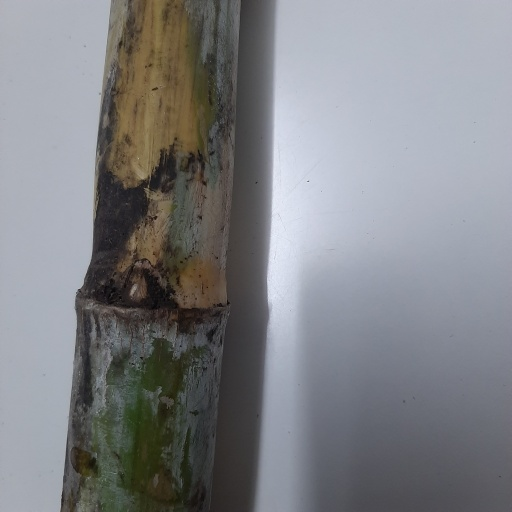Bud: (125, 269, 150, 305)
